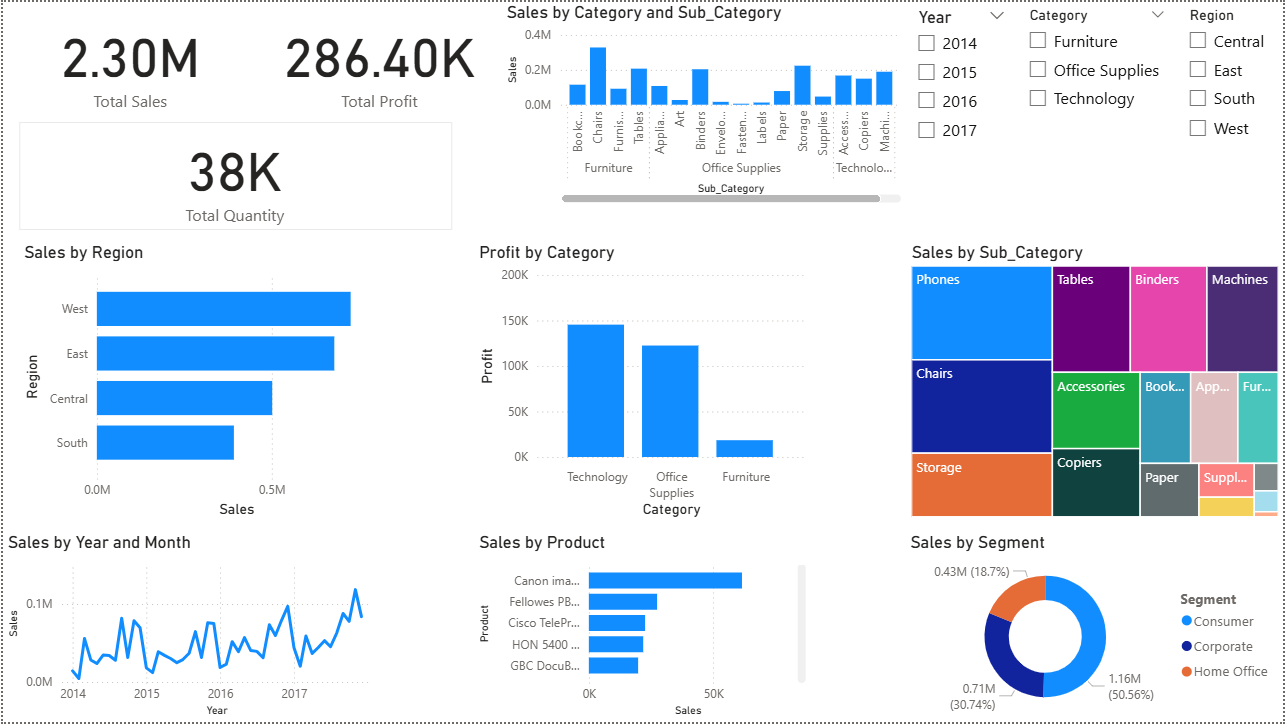

The dashboard page shown, as its layout file describes it:
{"tool":"powerbi","page":{"name":"Page 1","canvas":[1280,720],"ordinal":0},"visuals":[{"type":"card","fields":{"Values":["Sum(Sample - Superstore.Sales)"]},"box":[0,0,255,120],"z":0},{"type":"card","fields":{"Values":["Sum(Sample - Superstore.Quantity)"]},"box":[16.7,120,431.7,108.3],"z":1000},{"type":"card","fields":{"Values":["Sum(Sample - Superstore.Profit)"]},"box":[255,0,243.3,120],"z":2000},{"type":"barChart","fields":{"Category":["Sample - Superstore.Region"],"Y":["Sum(Sample - Superstore.Sales)"]},"box":[16.7,240,376.7,280],"z":3000},{"type":"columnChart","fields":{"Category":["Sample - Superstore.Category"],"Y":["Sum(Sample - Superstore.Profit)"]},"box":[471.7,240,336.7,280],"z":4000},{"type":"treemap","fields":{"Group":["Sample - Superstore.Sub_Category"],"Values":["Sum(Sample - Superstore.Sales)"]},"box":[903.3,240,376.7,280],"z":5000},{"type":"lineChart","fields":{"Y":["Sum(Sample - Superstore.Sales)"],"Category":["Sample - Superstore.Order_Date.Variation.Date Hierarchy.Year","Sample - Superstore.Order_Date.Variation.Date Hierarchy.Month"]},"box":[0,530,376.7,190],"z":6000},{"type":"barChart","fields":{"Category":["Sample - Superstore.Product_Name"],"Y":["Sum(Sample - Superstore.Sales)"]},"box":[471.7,530,336.7,190],"z":7000},{"type":"donutChart","fields":{"Category":["Sample - Superstore.Segment"],"Y":["Sum(Sample - Superstore.Sales)"]},"box":[903,530,377,190],"z":8000},{"type":"slicer","fields":{"Values":["Sample - Superstore.Year"]},"box":[902.9,0,111.4,154.3],"z":9000},{"type":"slicer","fields":{"Values":["Sample - Superstore.Region"]},"box":[1173.8,0,106.2,153.8],"z":10000},{"type":"slicer","fields":{"Values":["Sample - Superstore.Category"]},"box":[1013.8,0,160,153.8],"z":11000},{"type":"columnChart","fields":{"Category":["Sample - Superstore.Category","Sample - Superstore.Sub_Category"],"Y":["Sum(Sample - Superstore.Sales)"]},"box":[498.6,0,404.3,205.7],"z":12000}]}

Visuals, with their boxes in screenshot pixels (x1, y1, x2, y2), scaled from the page's 1280x720 canvas onto the 1285x725 screenshot:
card - Sum(Sample - Superstore.Sales): (x1=0, y1=0, x2=256, y2=121)
card - Sum(Sample - Superstore.Quantity): (x1=17, y1=121, x2=450, y2=230)
card - Sum(Sample - Superstore.Profit): (x1=256, y1=0, x2=500, y2=121)
barChart - Sample - Superstore.Region x Sum(Sample - Superstore.Sales): (x1=17, y1=242, x2=395, y2=524)
columnChart - Sample - Superstore.Category x Sum(Sample - Superstore.Profit): (x1=474, y1=242, x2=812, y2=524)
treemap - Sample - Superstore.Sub_Category x Sum(Sample - Superstore.Sales): (x1=907, y1=242, x2=1284, y2=524)
lineChart - Sum(Sample - Superstore.Sales) x Sample - Superstore.Order_Date.Variation.Date Hierarchy.Year: (x1=0, y1=534, x2=378, y2=724)
barChart - Sample - Superstore.Product_Name x Sum(Sample - Superstore.Sales): (x1=474, y1=534, x2=812, y2=724)
donutChart - Sample - Superstore.Segment x Sum(Sample - Superstore.Sales): (x1=907, y1=534, x2=1284, y2=724)
slicer - Sample - Superstore.Year: (x1=906, y1=0, x2=1018, y2=155)
slicer - Sample - Superstore.Region: (x1=1178, y1=0, x2=1284, y2=155)
slicer - Sample - Superstore.Category: (x1=1018, y1=0, x2=1178, y2=155)
columnChart - Sample - Superstore.Category x Sample - Superstore.Sub_Category: (x1=501, y1=0, x2=906, y2=207)
